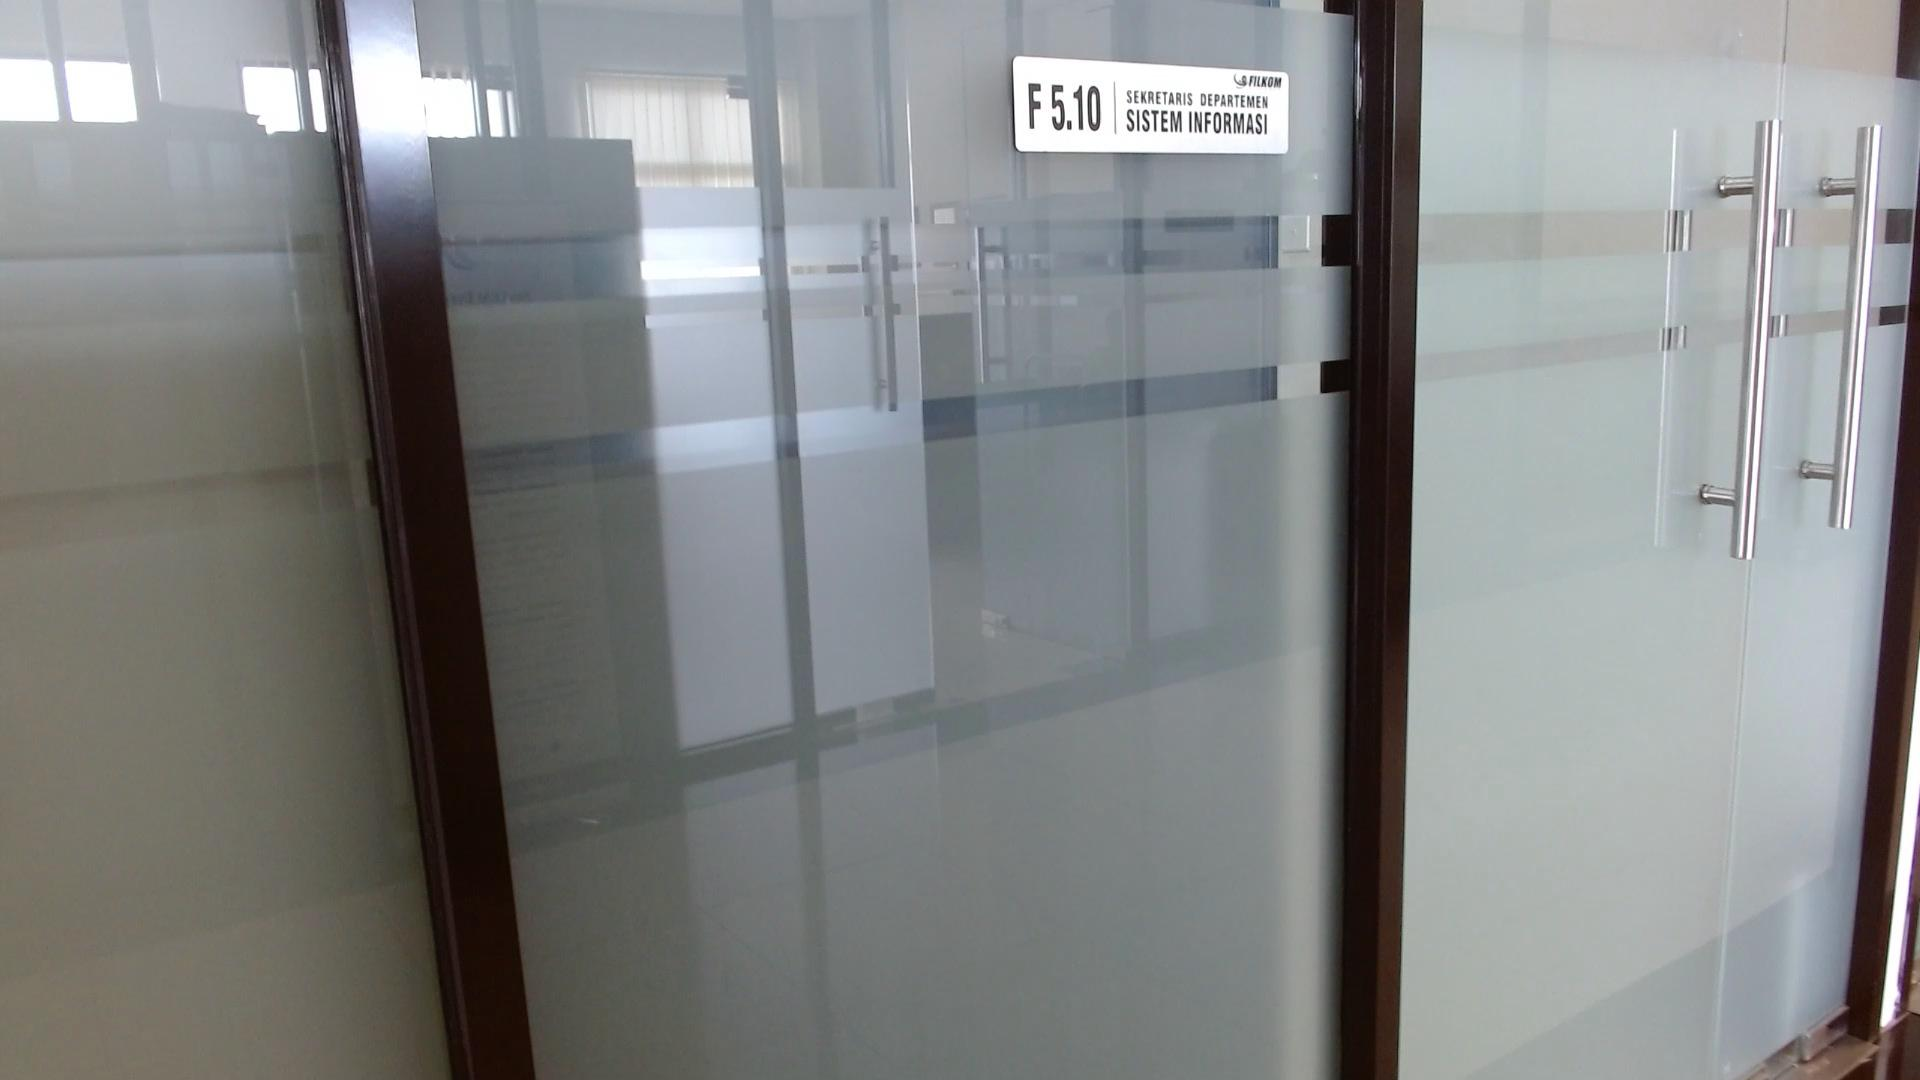plate: (1011, 54, 1288, 154)
